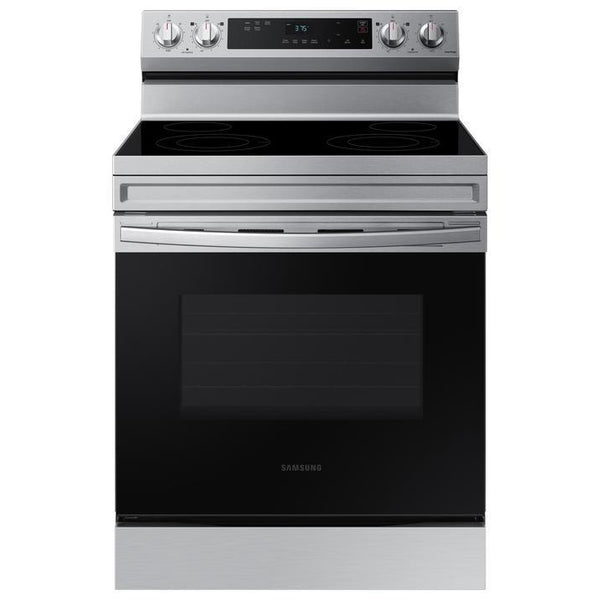stove: (83, 4, 525, 600)
